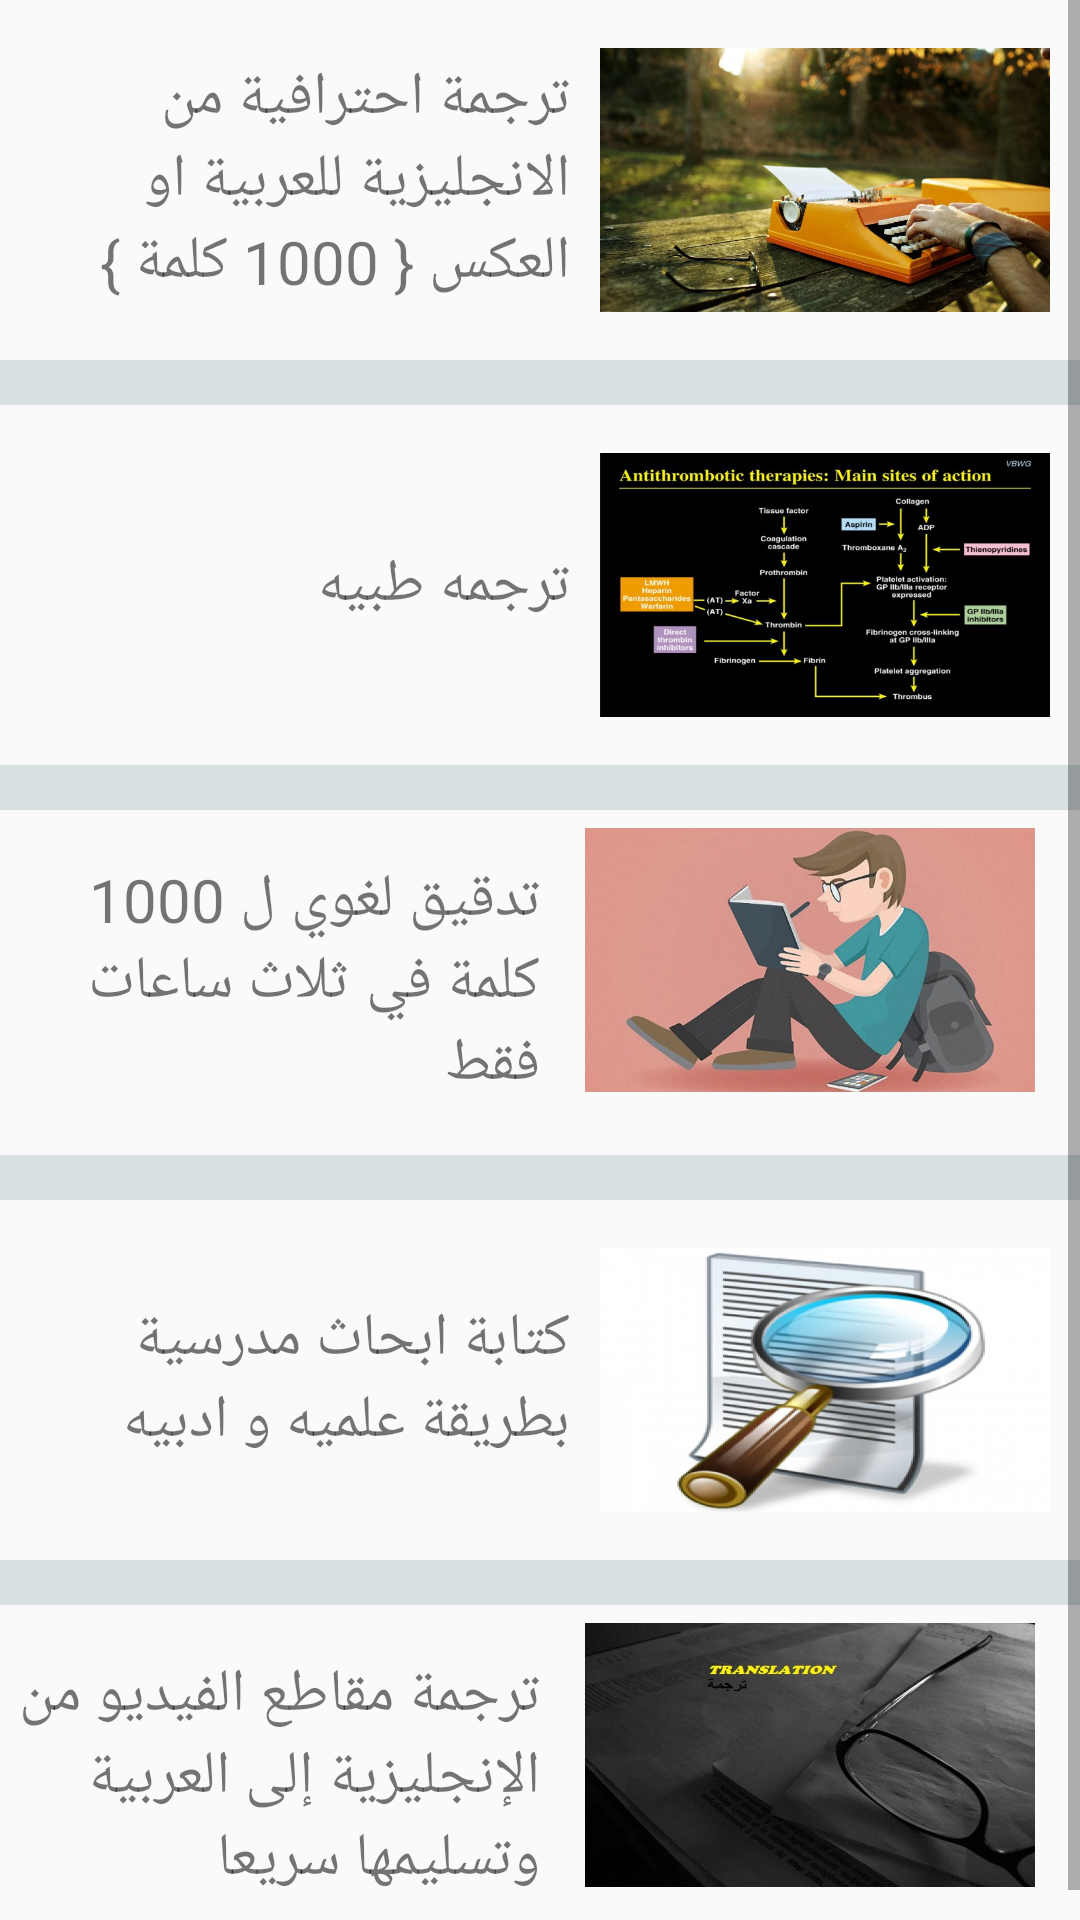

Locate icon controls on the screen. Image size 1080w x 1920h, boxes as bbox=(x1, y1, x2, y2).
school research: bbox=(677, 1253, 985, 1510)
